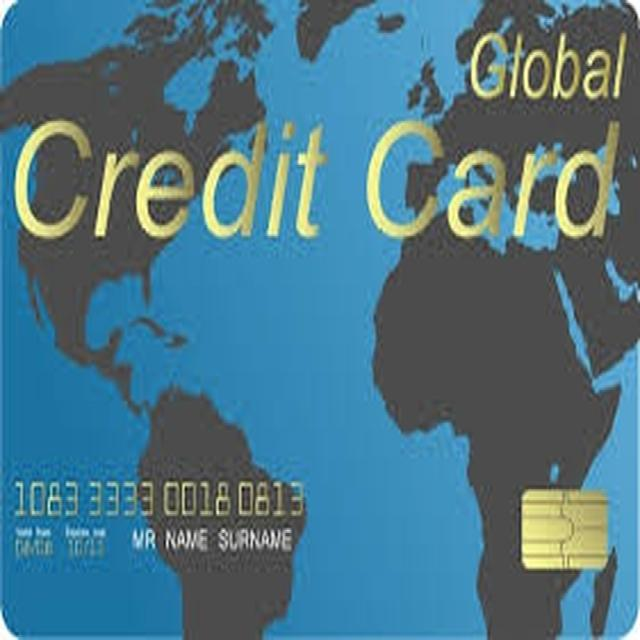card: (2, 2, 637, 629)
